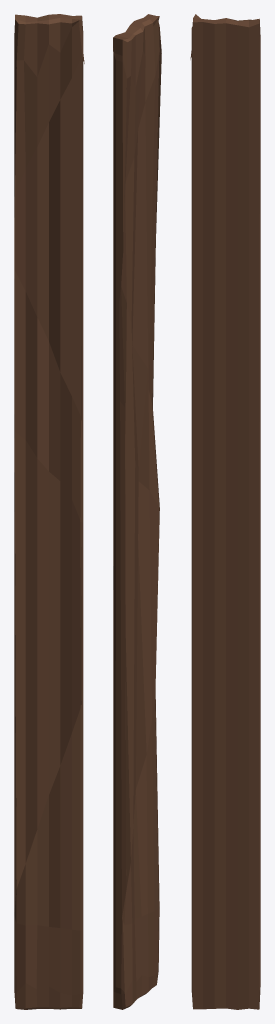
File: Wooden_plank.fbx
The picture shows the model from 3 angles, left to right: view 1: azimuth 90°, elevation 25°; view 2: azimuth 150°, elevation 25°; view 3: azimuth 270°, elevation 25°; orthographic projection.
Parts seen in each view (by area): view 1: Wooden_Board; view 2: Wooden_Board; view 3: Wooden_Board.
Part boxes in pixels (x1,y1,x2,y2): Wooden_Board: (14, 14, 84, 1009); Wooden_Board: (113, 14, 161, 1009); Wooden_Board: (190, 14, 260, 1009).
Bounding box in the file's own units: 3.91 × 200 × 12.91.
Materials: 1 (1 with a texture image).
